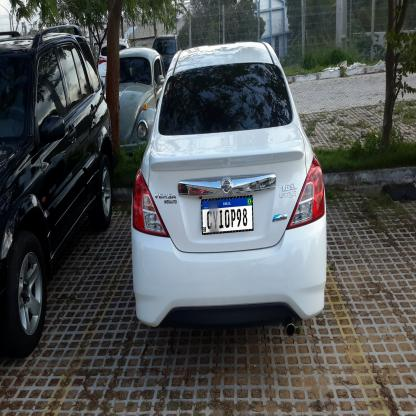PlacaM: (201, 195, 254, 235)
